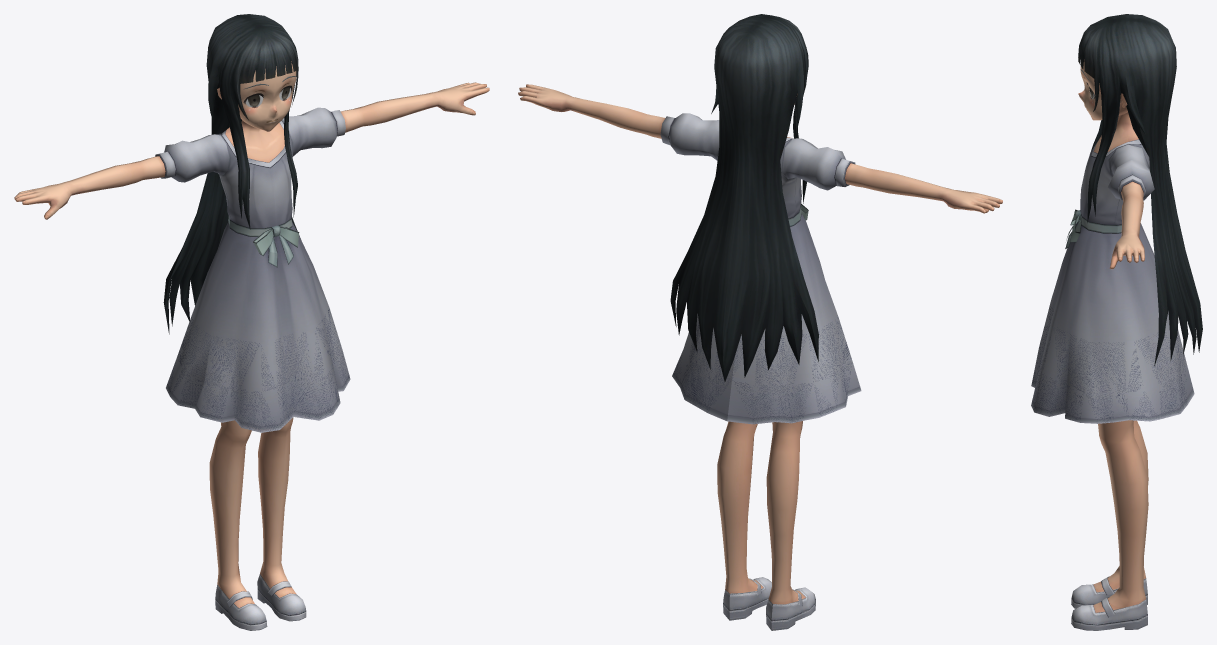
3 views of the same model, side by side, from view 1: azimuth 30°, elevation 25°; view 2: azimuth 150°, elevation 25°; view 3: azimuth 270°, elevation 25° (orthographic). The views are drawn at different scales.
Visible parts, largest first — view 1: 0000_3c, Mika; view 2: Mika, 0000_3c; view 3: Mika, 0000_3c.
Part boxes in pixels (x1,y1,x2,y2): 0000_3c: (155, 107, 350, 630); Mika: (14, 14, 489, 607); Mika: (518, 14, 1002, 604); 0000_3c: (660, 113, 861, 630); Mika: (1031, 14, 1202, 612); 0000_3c: (1031, 137, 1194, 630).
Size of the model in its own units: 5.15 by 6.11 by 1.6.
Materials: 4 (4 with a texture image).
